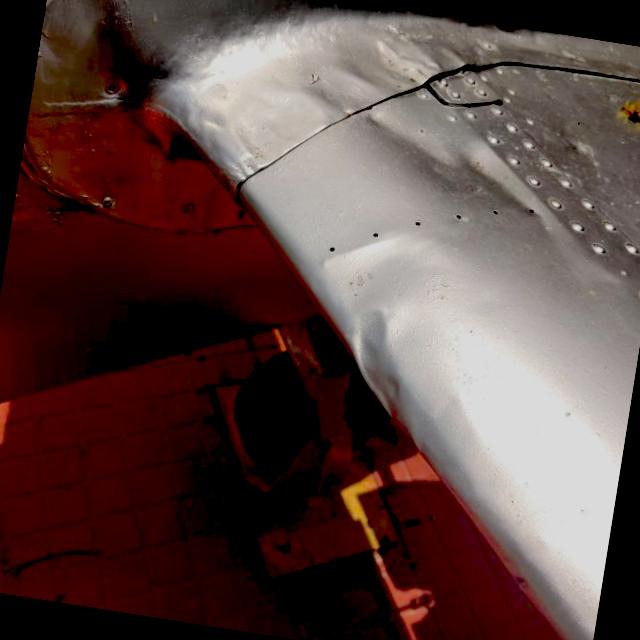dent: (344, 79, 571, 234), (221, 71, 353, 166), (338, 306, 418, 421), (418, 41, 486, 102)
